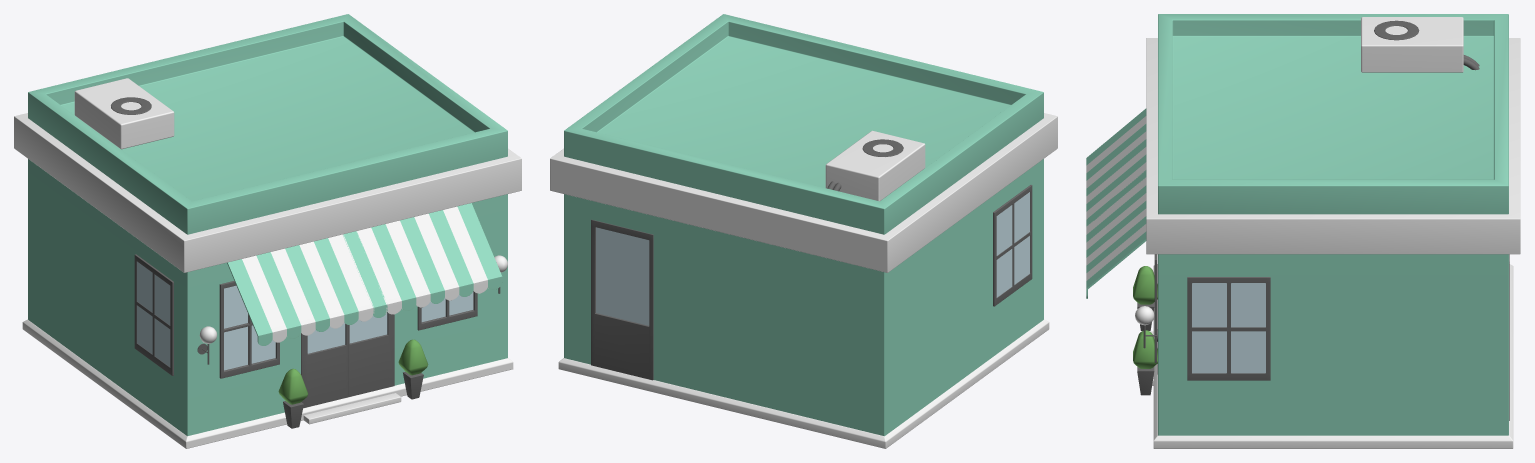
File: Target_Shop-2.fbx
3 views of the same model, side by side, from view 1: azimuth 30°, elevation 25°; view 2: azimuth 150°, elevation 25°; view 3: azimuth 270°, elevation 25° (orthographic). The views are drawn at different scales.
Parts seen in each view (by area): view 1: polySurface4; view 2: polySurface4; view 3: polySurface4.
Boxes of the visible parts, bbox=[...] form: polySurface4: bbox=[14, 14, 521, 448]; polySurface4: bbox=[550, 14, 1057, 448]; polySurface4: bbox=[1086, 14, 1520, 448].
Bounding box in the file's own units: 1223 × 861 × 1238.
